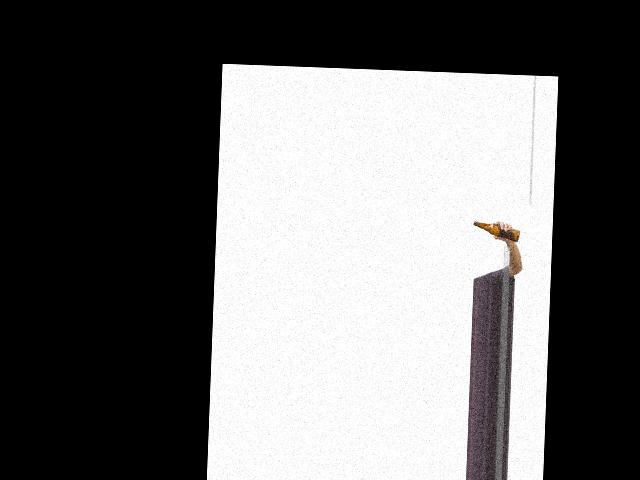beer: (473, 221, 520, 242)
